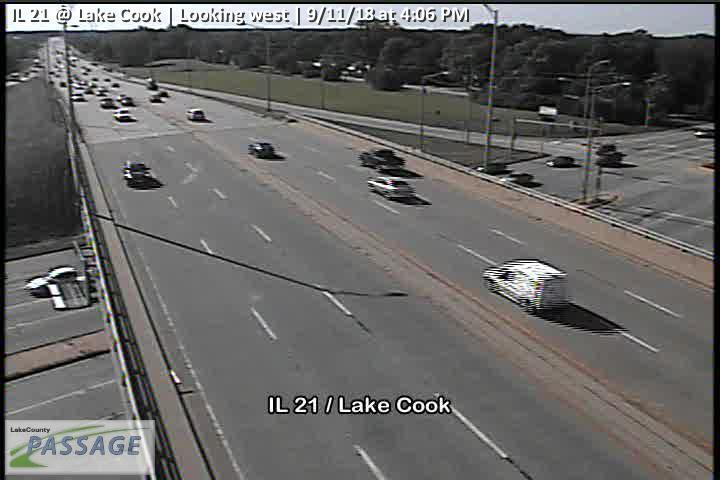SUV: (25, 265, 80, 297), (123, 160, 152, 187), (595, 150, 623, 167), (247, 141, 274, 157)
Sedan: (366, 176, 416, 199), (501, 171, 534, 183), (545, 155, 575, 167)
Truck: (482, 258, 569, 313), (359, 147, 406, 173)
